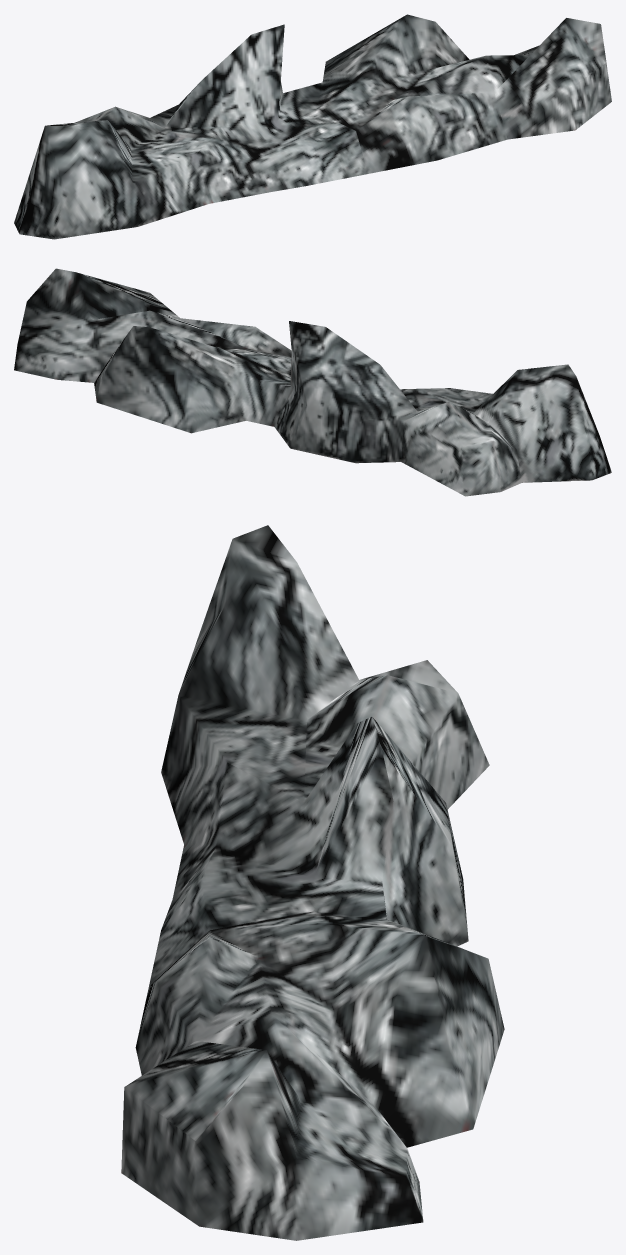
File: STR_WallBoulderA.FBX
The picture shows the model from 3 angles, top to bottom: view 1: azimuth 30°, elevation 25°; view 2: azimuth 150°, elevation 25°; view 3: azimuth 270°, elevation 25°; orthographic projection. The views are drawn at different scales.
Visible parts, largest first — view 1: STR_WallBoulderA; view 2: STR_WallBoulderA; view 3: STR_WallBoulderA.
Boxes of the visible parts, box(x1,y1,x2,y2) form: STR_WallBoulderA: box(14, 14, 611, 239); STR_WallBoulderA: box(14, 268, 611, 496); STR_WallBoulderA: box(121, 525, 504, 1240).
Size of the model in its own units: 1324 by 237 by 384.
Materials: 1 (1 with a texture image).
